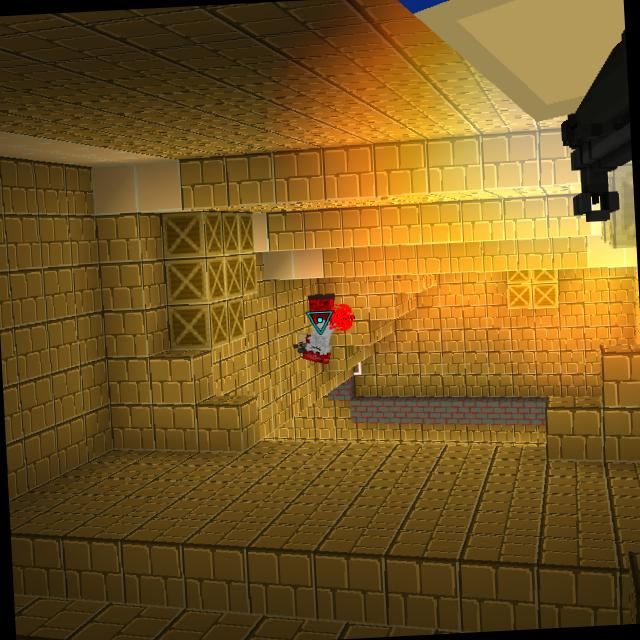enemy: (294, 292, 339, 367)
